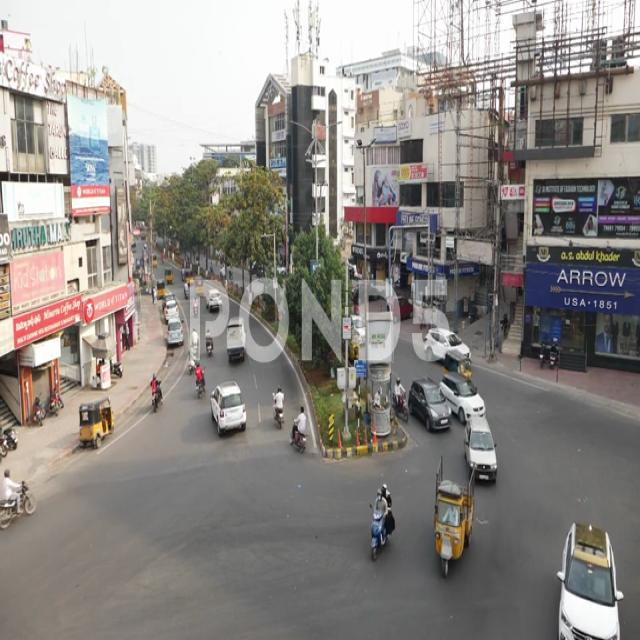car: (557, 515, 625, 640), (209, 386, 248, 436), (468, 420, 498, 485), (411, 380, 447, 431), (449, 376, 487, 416)
motorbike: (372, 486, 396, 559), (146, 372, 166, 417), (392, 380, 409, 425), (273, 382, 287, 432), (294, 408, 309, 454), (195, 362, 207, 401)
rikshaw: (80, 399, 120, 445)
truck: (433, 455, 475, 587)
